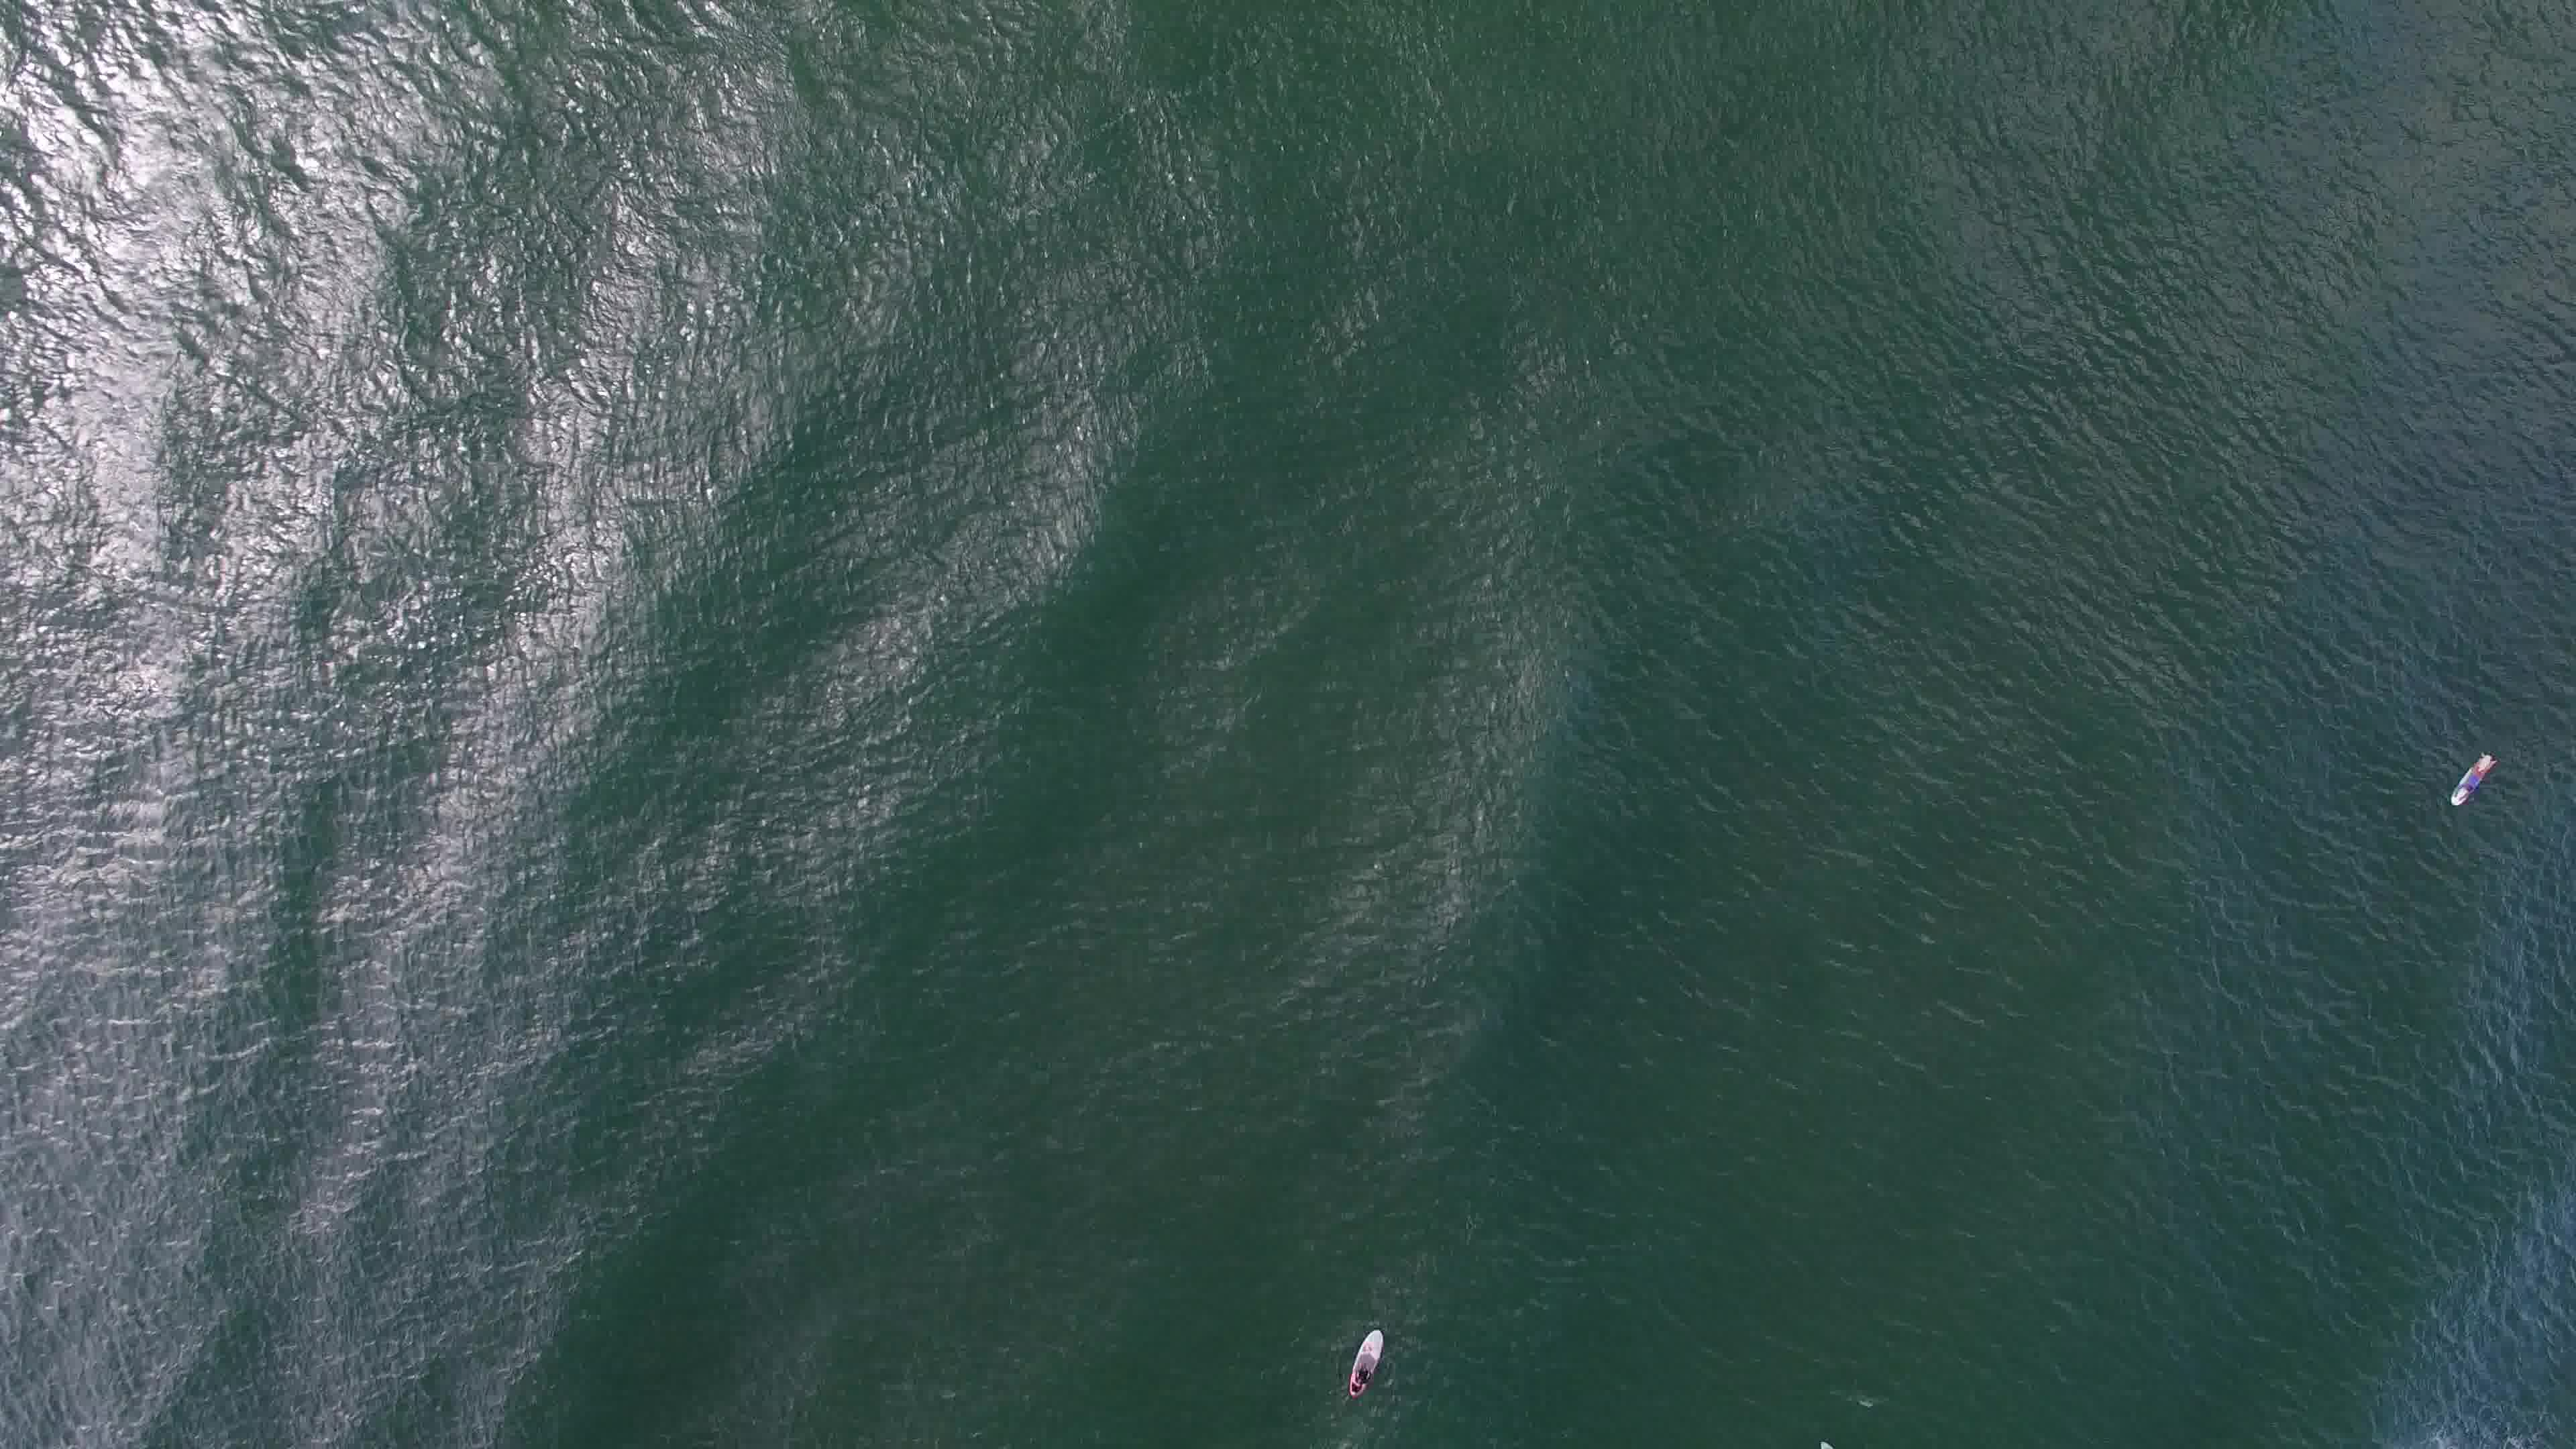surfer: (1343, 1329, 1392, 1408), (2440, 748, 2503, 810)
